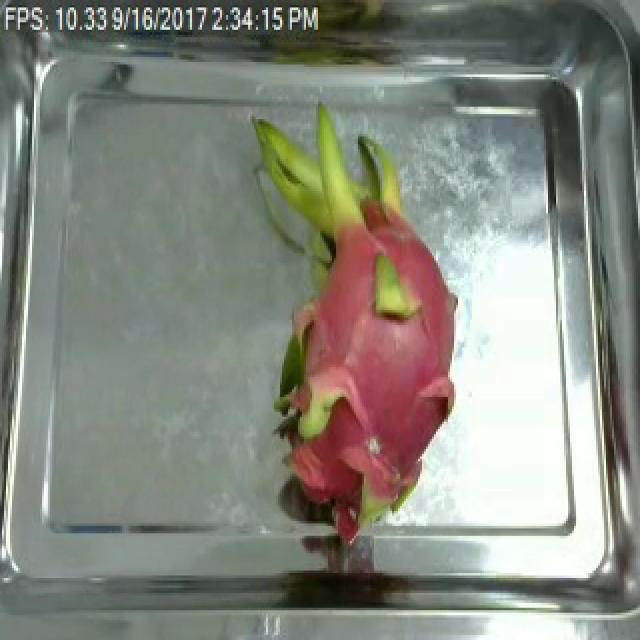fruit: (238, 117, 478, 536)
